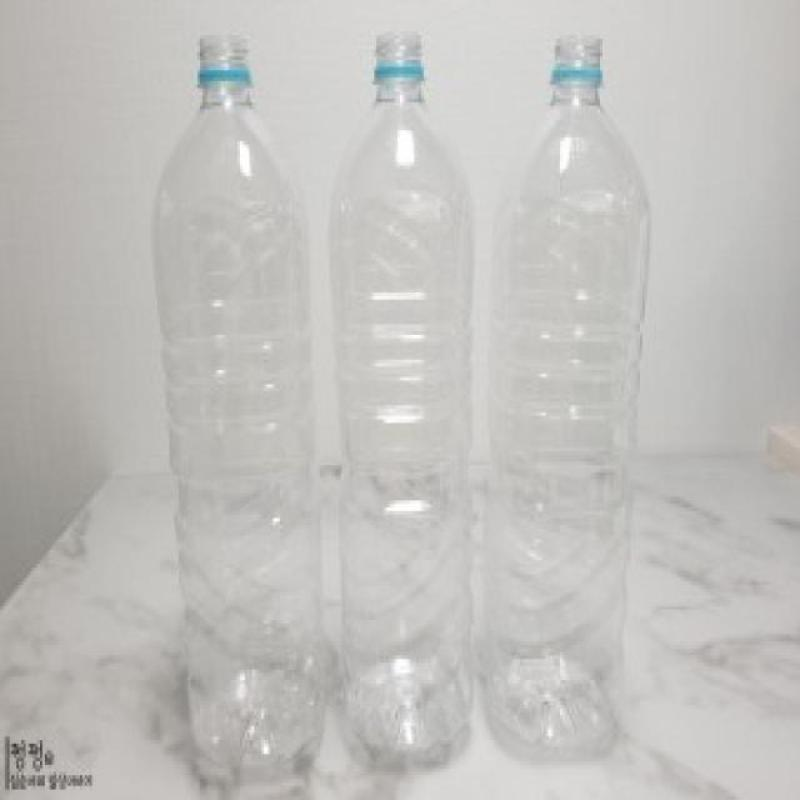botella: (151, 35, 330, 786), (488, 36, 634, 755), (338, 33, 473, 758)
